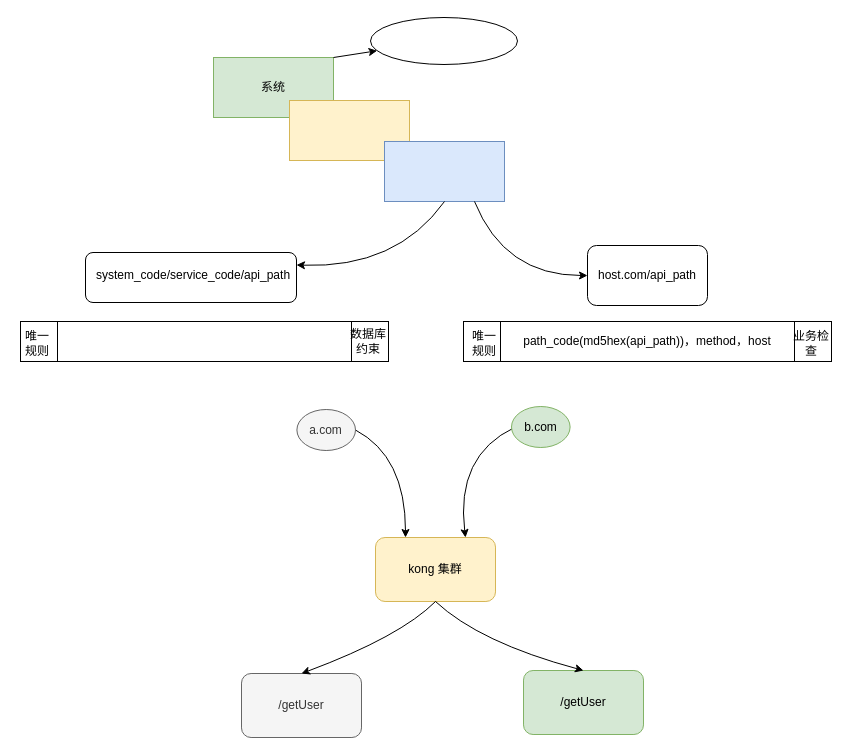
The diagram is 849 pixels wide and 755 high, and some of its shapes have lost their labels. Here are the shapes that lost their labels. From the top down, the box of each, then its label:
(370, 16, 518, 64): host.com
(288, 100, 410, 160): 服务
(384, 140, 504, 202): api
(20, 320, 388, 362): serviceid，path_code(md5hex(api_path))，method
